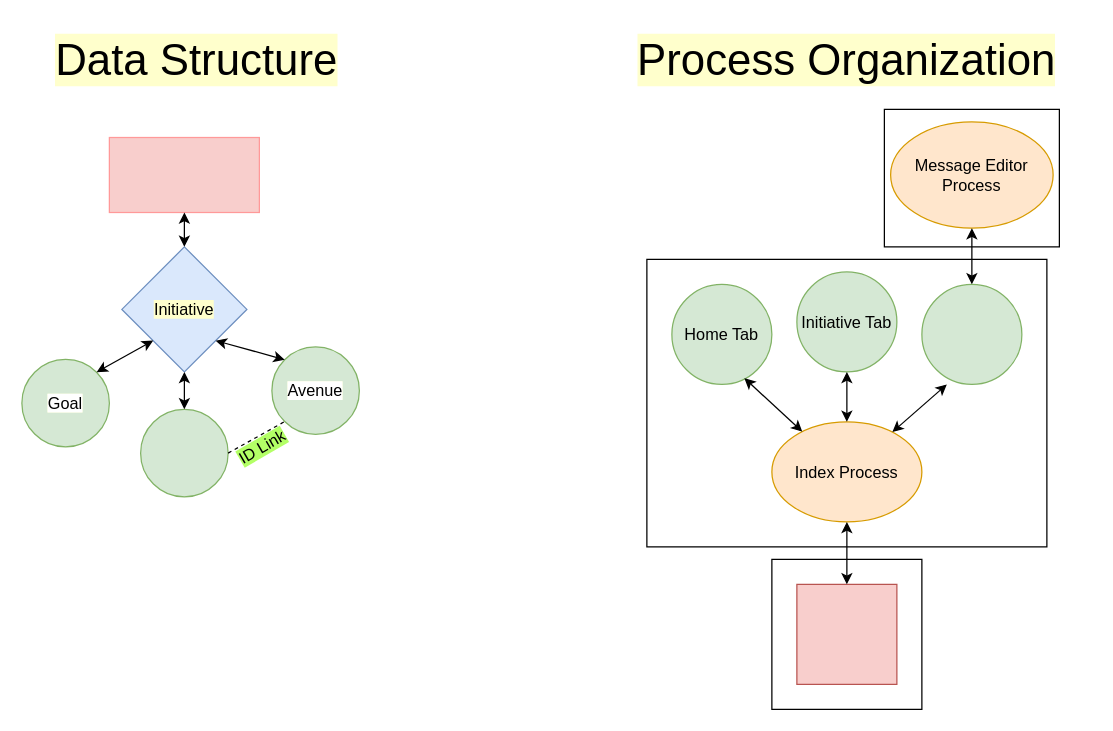
The diagram is 1113 pixels wide and 731 high, and some of its shapes have lost their labels. Here are the shapes that lost their labels. From the top down, the centre of each, then its label:
point (183, 174): InitiativeCollection
point (971, 333): Message Manager Tab
point (183, 452): Message
point (846, 633): Main Process
